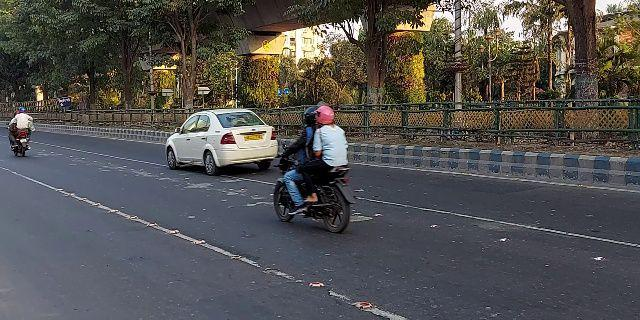Car: (160, 109, 281, 180)
Motorbike: (268, 99, 365, 236), (8, 104, 37, 160)
